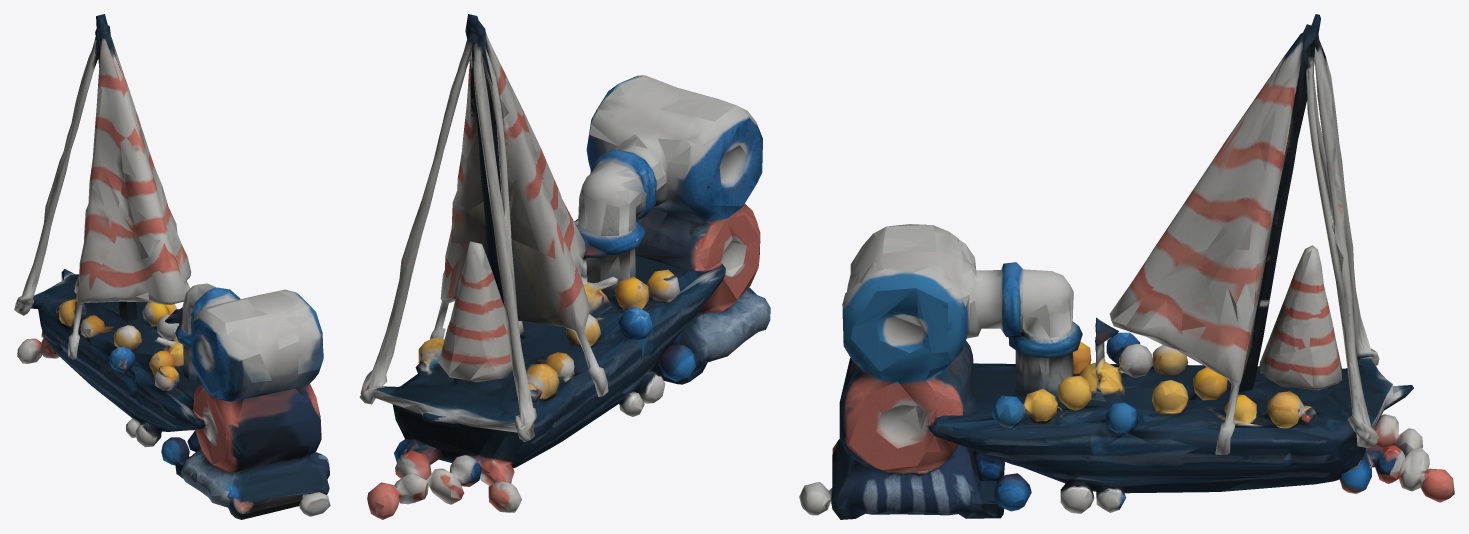
3 views of the same model, side by side, from view 1: azimuth 30°, elevation 25°; view 2: azimuth 150°, elevation 25°; view 3: azimuth 270°, elevation 25° (orthographic). The views are drawn at different scales.
Parts seen in each view (by area): view 1: tripo_node_3aac9e97; view 2: tripo_node_3aac9e97; view 3: tripo_node_3aac9e97.
Part boxes in pixels (box(x1,y1,x2,y2)): tripo_node_3aac9e97: box(14, 14, 330, 519); tripo_node_3aac9e97: box(359, 14, 770, 519); tripo_node_3aac9e97: box(799, 14, 1454, 519).
Bounding box in the file's own units: 13.42 × 35.39 × 43.68.
Materials: 1 (1 with a texture image).
